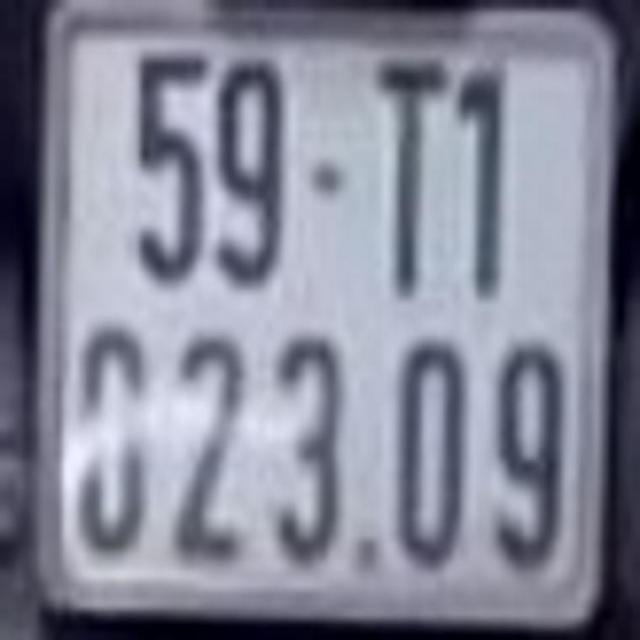0: (74, 321, 147, 560), (401, 336, 463, 565)
1: (458, 67, 511, 303)
2: (174, 335, 238, 562)
3: (270, 336, 341, 555)
5: (135, 53, 201, 282)
9: (217, 66, 287, 288), (498, 339, 561, 575)
T: (374, 54, 453, 294)
